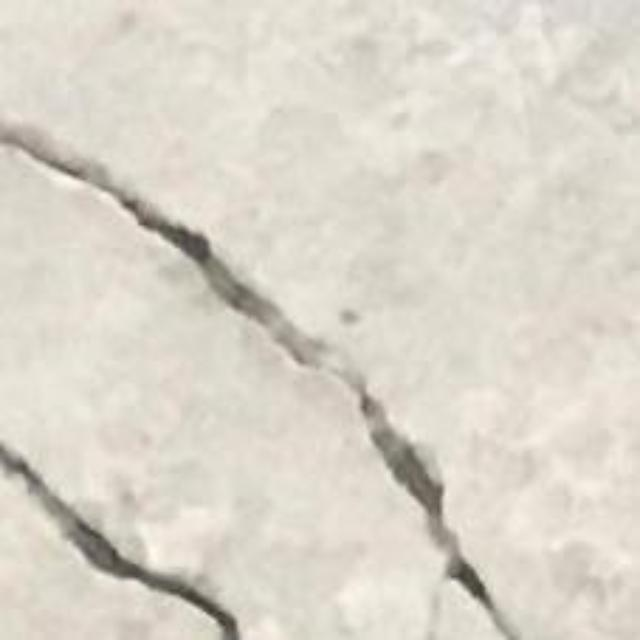crack: (0, 122, 521, 639)
